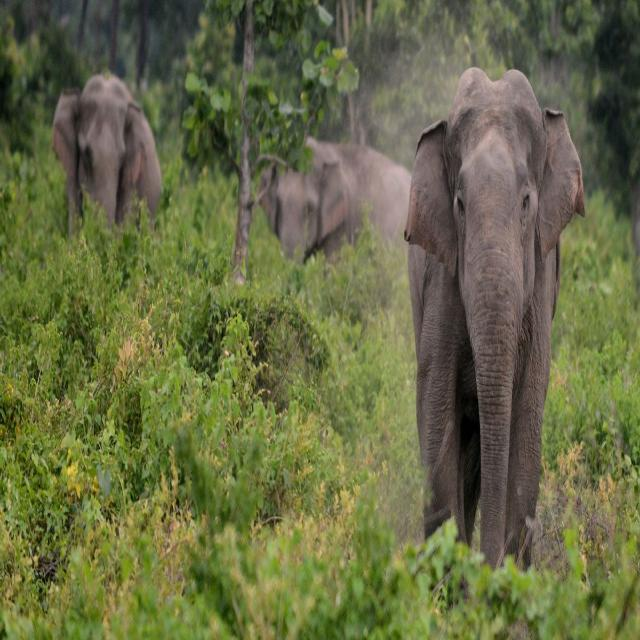Elephant: (404, 53, 587, 564), (253, 124, 416, 320), (49, 70, 169, 235)
